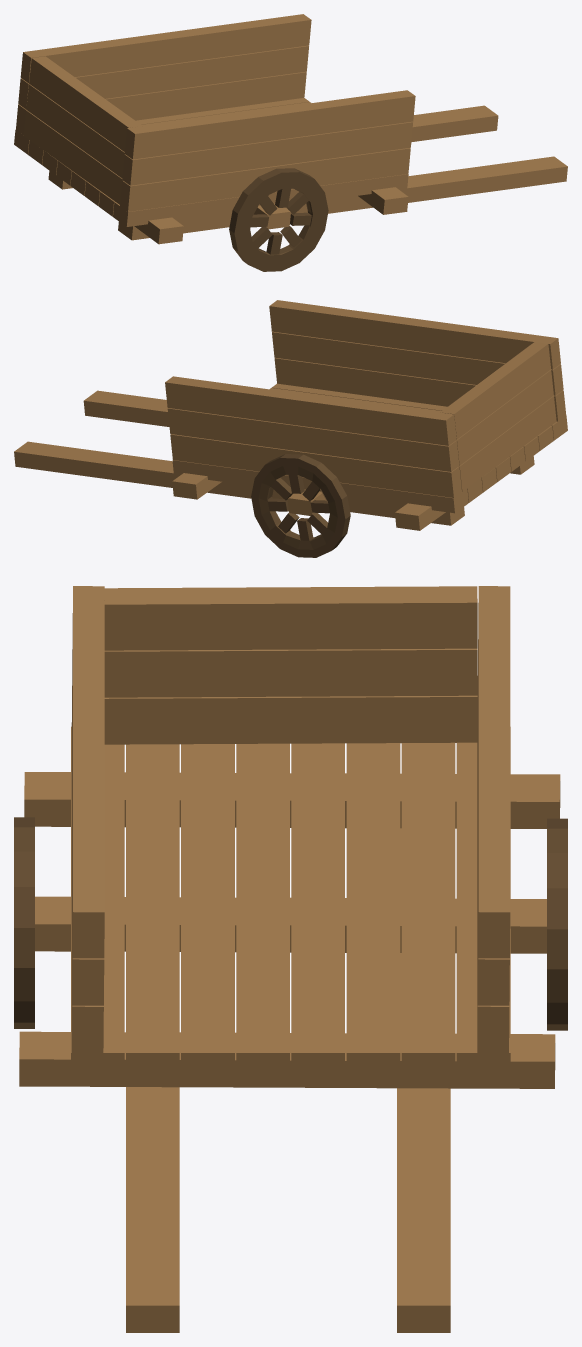
The model's file is Karren.fbx.
The picture shows the model from 3 angles, top to bottom: view 1: azimuth 30°, elevation 25°; view 2: azimuth 150°, elevation 25°; view 3: azimuth 270°, elevation 25°; orthographic projection. The views are drawn at different scales.
Visible parts, largest first — view 1: Karren; view 2: Karren; view 3: Karren.
Boxes of the visible parts, x1,y1,x2,y2 form: Karren: [14, 14, 567, 271]; Karren: [14, 300, 567, 557]; Karren: [14, 586, 567, 1332].
Size of the model in its own units: 7.93 by 2.76 by 4.29.
